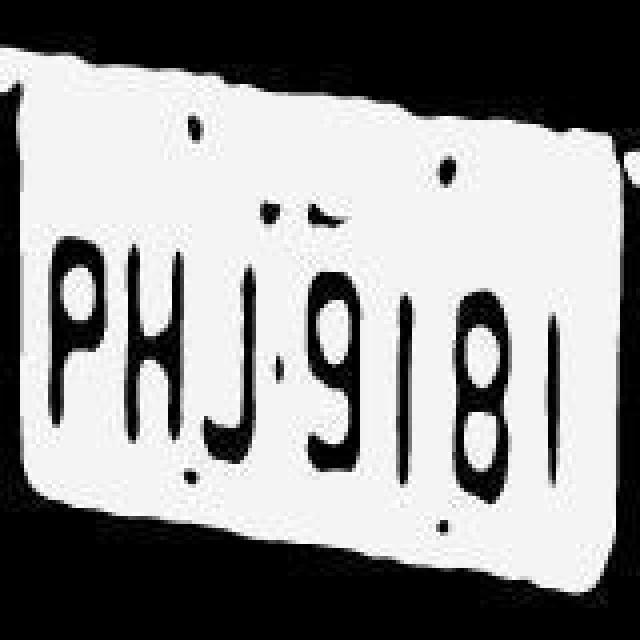1: (528, 284, 584, 532), (384, 246, 432, 506)
8: (442, 248, 518, 512)
9: (304, 244, 384, 508)
H: (116, 200, 188, 456)
J: (198, 260, 274, 508)
P: (38, 208, 114, 464)
